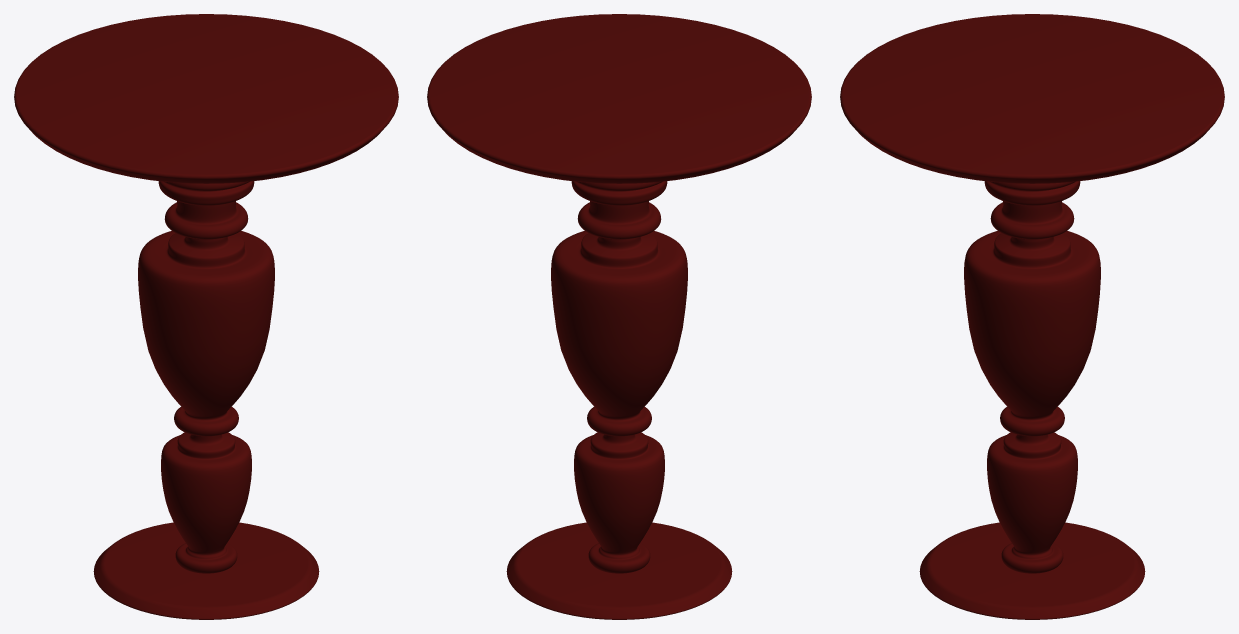
3 views of the same model, side by side, from view 1: azimuth 30°, elevation 25°; view 2: azimuth 150°, elevation 25°; view 3: azimuth 270°, elevation 25° (orthographic).
Visible parts, largest first — view 1: Line05, Line06, Line04; view 2: Line05, Line06, Line04; view 3: Line05, Line06, Line04.
Boxes of the visible parts, left/top/right/bottom form: Line05: left=14, top=14, right=398, bottom=183; Line06: left=138, top=181, right=274, bottom=573; Line04: left=93, top=522, right=319, bottom=619; Line05: left=427, top=14, right=811, bottom=183; Line06: left=551, top=181, right=687, bottom=573; Line04: left=506, top=522, right=732, bottom=619; Line05: left=840, top=14, right=1224, bottom=183; Line06: left=964, top=181, right=1100, bottom=573; Line04: left=919, top=522, right=1145, bottom=619.
Bounding box in the file's own units: 13497 × 18512 × 13497.
